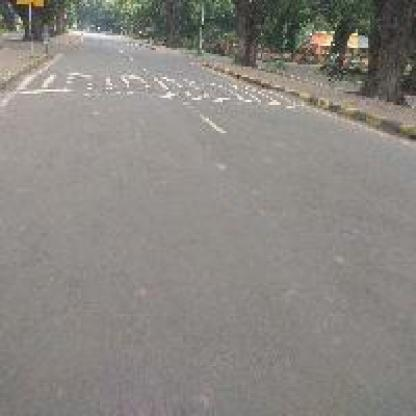Speed Bump: (19, 70, 264, 96)
